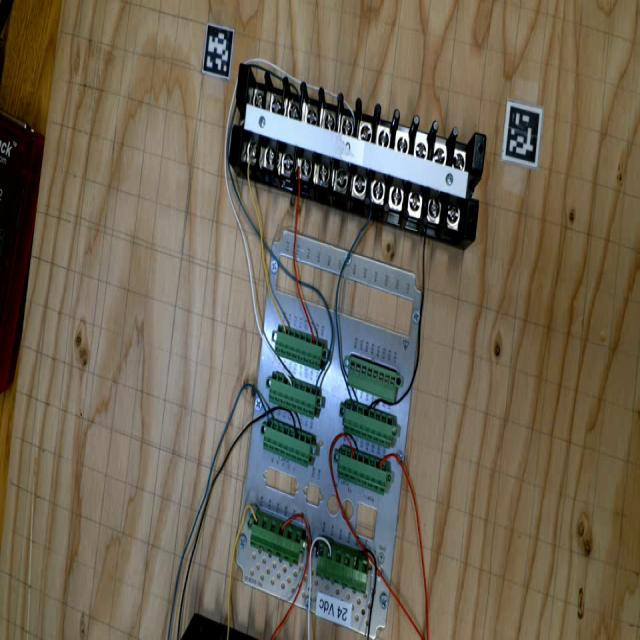Phillips_Block: (211, 57, 506, 240)
Terminal_1: (242, 508, 312, 566), (308, 539, 378, 594)
Terminal_2: (329, 443, 396, 496), (256, 417, 320, 468), (335, 399, 400, 449), (262, 369, 325, 419), (268, 324, 330, 371)
